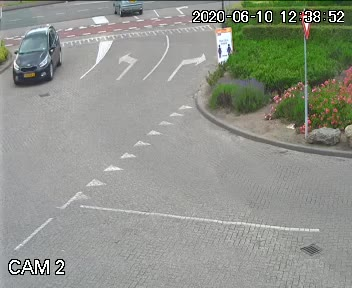car: (13, 21, 69, 91)
